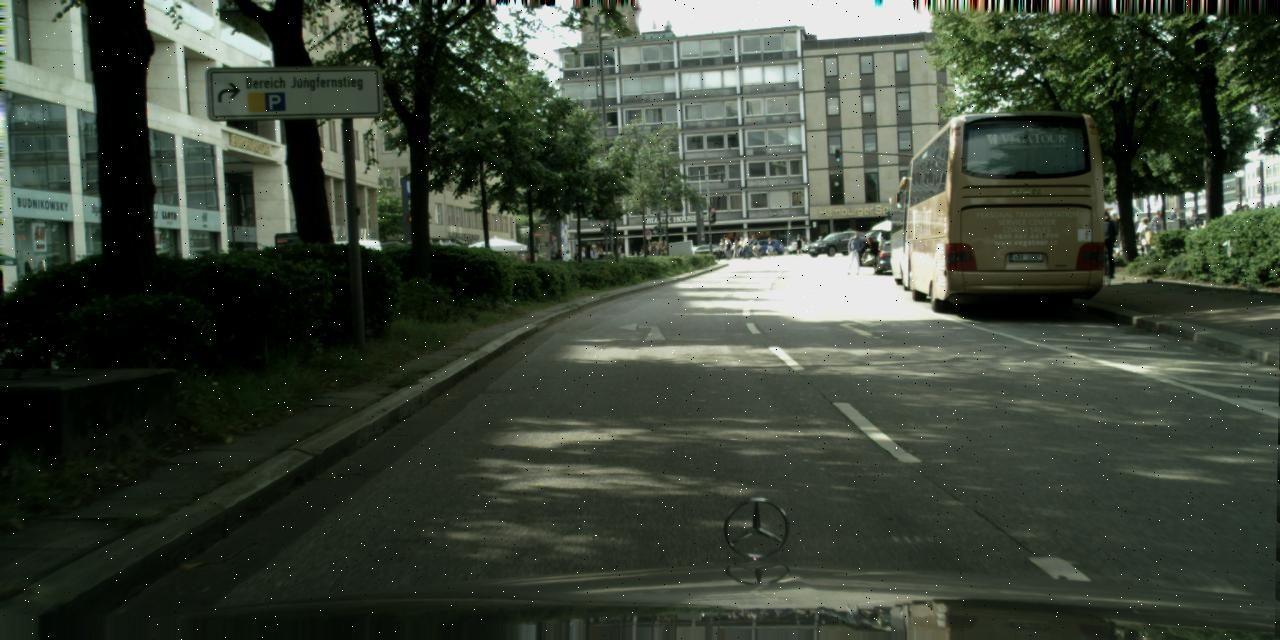ped: (1091, 208, 1119, 275), (1137, 216, 1154, 259), (846, 231, 863, 273), (1106, 208, 1122, 247), (1149, 210, 1164, 245), (1168, 207, 1180, 237), (866, 235, 876, 263), (588, 244, 598, 266), (722, 235, 731, 259), (718, 238, 726, 260), (554, 248, 562, 270), (794, 233, 802, 254), (562, 249, 570, 270), (731, 238, 739, 258), (736, 236, 744, 256), (766, 237, 774, 257), (518, 254, 526, 272), (1234, 203, 1242, 221), (1254, 201, 1261, 221), (525, 253, 532, 272), (579, 246, 586, 265), (750, 234, 756, 253), (596, 248, 603, 264), (532, 252, 538, 270), (616, 244, 622, 262), (1268, 200, 1274, 218), (638, 248, 644, 263), (656, 240, 662, 254), (568, 255, 574, 268), (816, 235, 821, 247), (632, 250, 637, 262), (651, 243, 655, 255), (645, 245, 648, 254), (573, 254, 576, 262)
